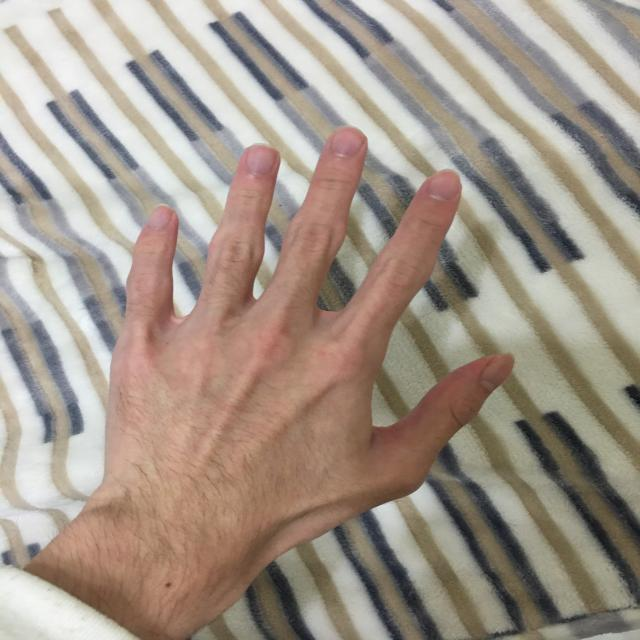Hand: (96, 124, 520, 584)
